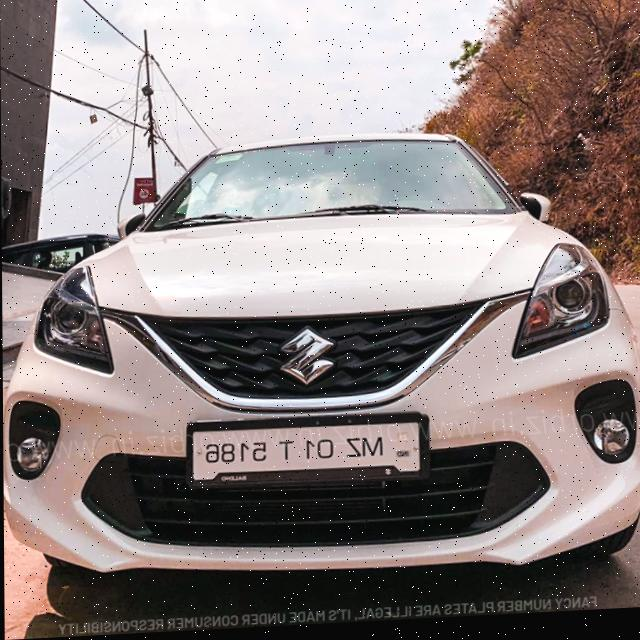plate: (181, 411, 430, 494)
